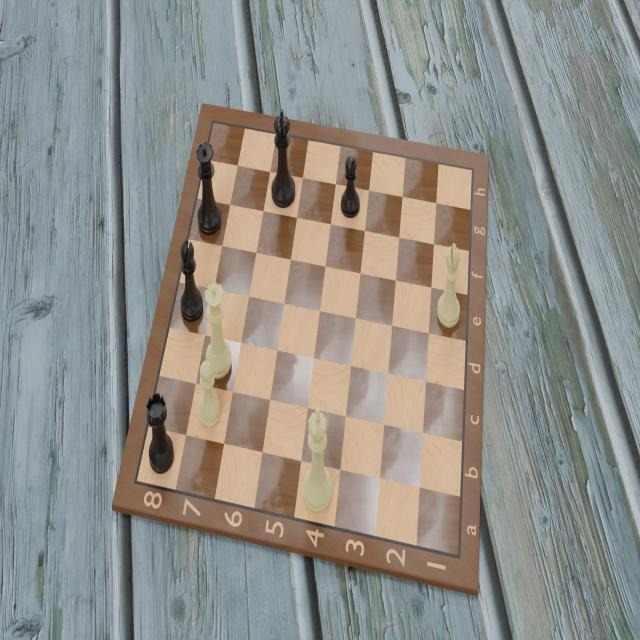black-bishop: (178, 237, 205, 323)
black-king: (265, 106, 298, 210)
black-pawn: (338, 153, 361, 218)
black-queen: (196, 141, 222, 234)
black-rook: (146, 393, 174, 475)
white-bishop: (436, 239, 462, 333)
white-king: (301, 405, 333, 515)
white-pawn: (197, 359, 222, 432)
white-queen: (204, 281, 234, 385)
